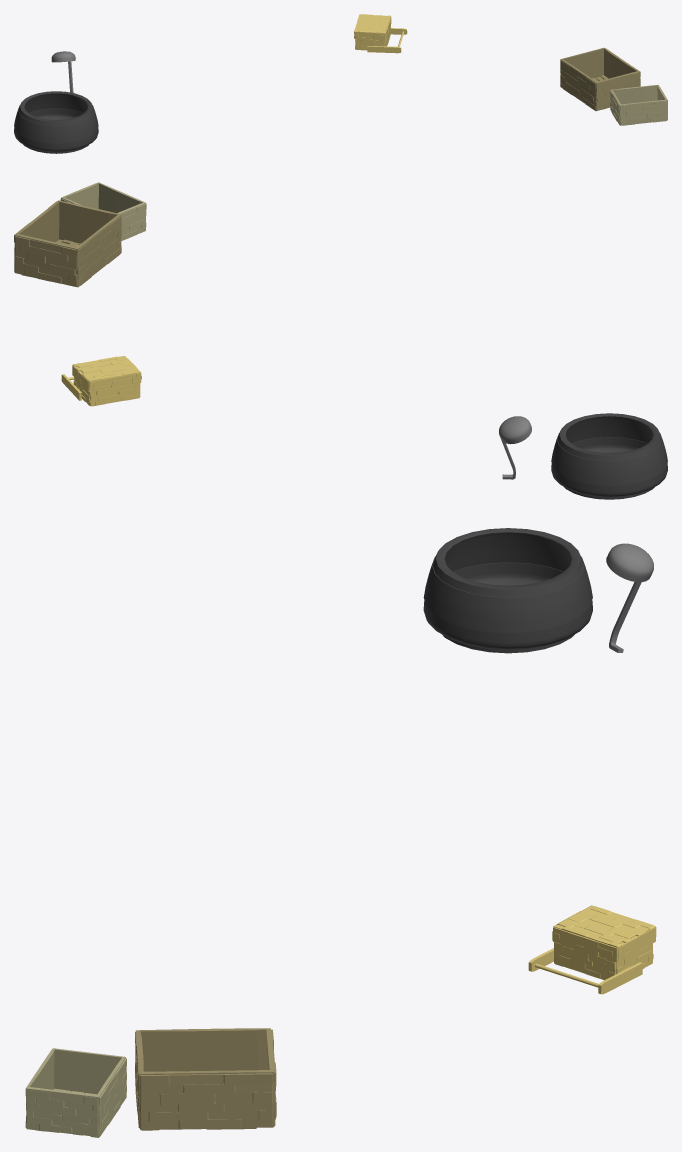
Rendered from CoreccionNormales.fbx.
3 renders of one model, top to bottom at view 1: azimuth 30°, elevation 25°; view 2: azimuth 150°, elevation 25°; view 3: azimuth 270°, elevation 25°, orthographic. The views are drawn at different scales.
Visible parts, largest first — view 1: OLLA, ENVASEV1.002, ENVASEV1.003, TapaCaja, AgarraderasCaja, CucharonHervor, ENVASEV1.001; view 2: OLLA, ENVASEV1.002, ENVASEV1.003, TapaCaja, ENVASEV1.001, CucharonHervor; view 3: OLLA, ENVASEV1.002, ENVASEV1.003, TapaCaja, CucharonHervor, ENVASEV1.001, AgarraderasCaja.
Part boxes in pixels (left/top/right/bottom): OLLA: left=14, top=91, right=98, bottom=153; ENVASEV1.002: left=560, top=47, right=640, bottom=110; ENVASEV1.003: left=610, top=84, right=667, bottom=125; TapaCaja: left=354, top=14, right=391, bottom=40; AgarraderasCaja: left=367, top=28, right=407, bottom=53; CucharonHervor: left=51, top=51, right=75, bottom=92; ENVASEV1.001: left=355, top=25, right=390, bottom=50; OLLA: left=551, top=413, right=667, bottom=499; ENVASEV1.002: left=14, top=200, right=121, bottom=287; ENVASEV1.003: left=60, top=182, right=146, bottom=240; TapaCaja: left=72, top=356, right=141, bottom=391; ENVASEV1.001: left=73, top=377, right=140, bottom=406; CucharonHervor: left=499, top=416, right=531, bottom=479; OLLA: left=423, top=528, right=592, bottom=653; ENVASEV1.002: left=135, top=1028, right=276, bottom=1130; ENVASEV1.003: left=25, top=1048, right=126, bottom=1137; TapaCaja: left=552, top=905, right=656, bottom=962; CucharonHervor: left=606, top=543, right=653, bottom=652; ENVASEV1.001: left=554, top=942, right=653, bottom=980; AgarraderasCaja: left=528, top=948, right=642, bottom=994.
Size of the model in its own units: 5.32 by 0.6659 by 2.71.
